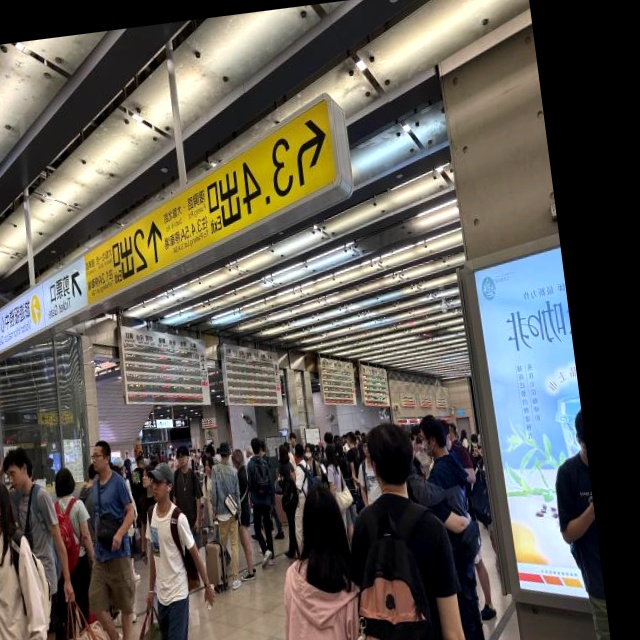Sin_Casco_Mascarrilla: (364, 420, 417, 489), (298, 485, 344, 552), (146, 462, 177, 504), (89, 440, 113, 475), (53, 467, 76, 501), (0, 480, 13, 534), (175, 445, 190, 467)
